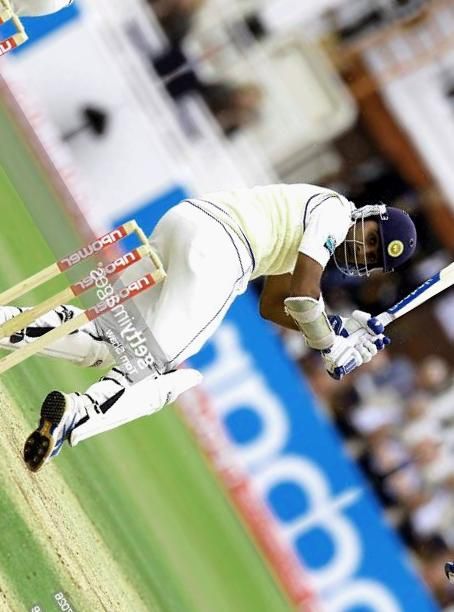batsman: (4, 127, 454, 474)
